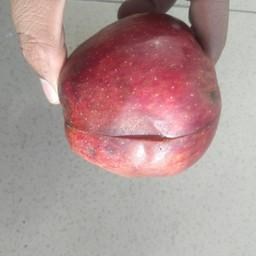Bad_apple: (56, 12, 225, 179)
